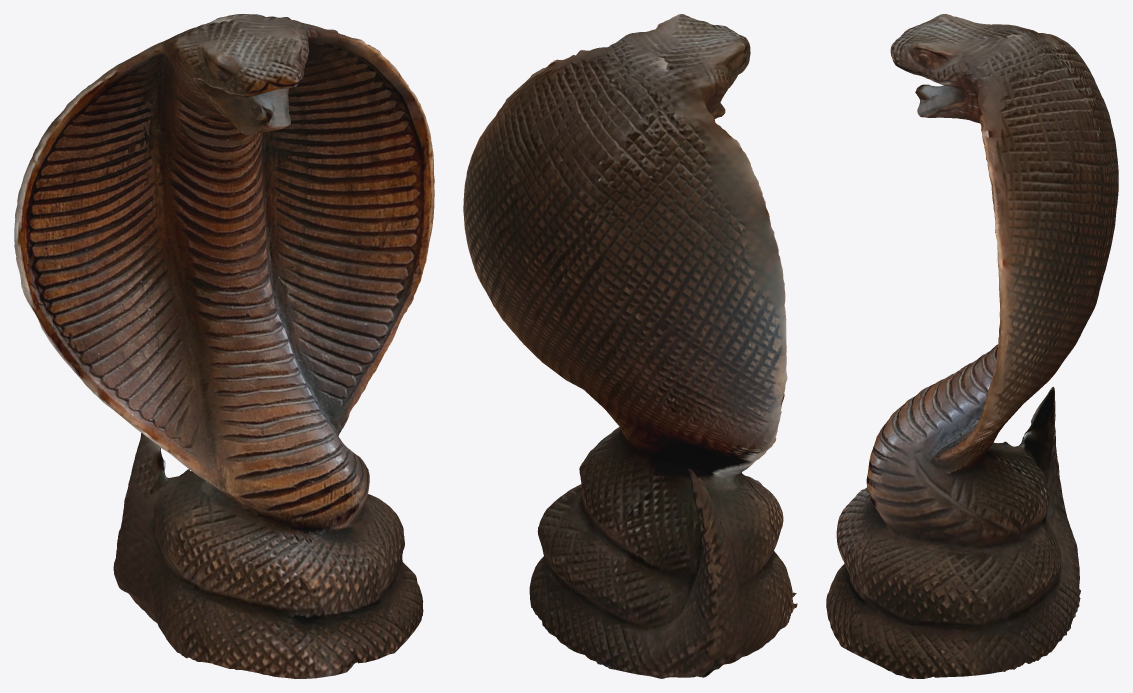
The model's file is snake.glb.
3 renders of one model, left to right at view 1: azimuth 30°, elevation 25°; view 2: azimuth 150°, elevation 25°; view 3: azimuth 270°, elevation 25°, orthographic. The views are drawn at different scales.
Parts seen in each view (by area): view 1: Object_4, Object_3, Object_5, Object_2; view 2: Object_2, Object_5, Object_4, Object_3; view 3: Object_5, Object_2, Object_3, Object_4, Object_6.
Boxes of the visible parts, <box> form: Object_4: <box>17,49,434,376</box>; Object_3: <box>26,23,428,645</box>; Object_5: <box>14,14,433,678</box>; Object_2: <box>15,15,434,676</box>; Object_2: <box>503,14,797,678</box>; Object_5: <box>463,38,797,677</box>; Object_4: <box>592,105,787,449</box>; Object_3: <box>502,14,772,559</box>; Object_5: <box>828,24,1115,678</box>; Object_2: <box>826,14,1115,677</box>; Object_3: <box>849,42,1105,678</box>; Object_4: <box>967,84,1118,440</box>; Object_6: <box>861,461,966,610</box>.
Bounding box in the file's own units: 2 × 3.14 × 1.4.
Materials: 1 (1 with a texture image).
